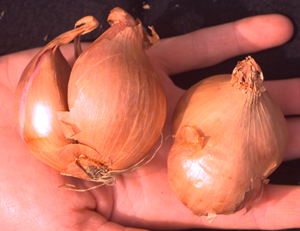onion: (15, 6, 176, 194), (168, 57, 289, 217)
